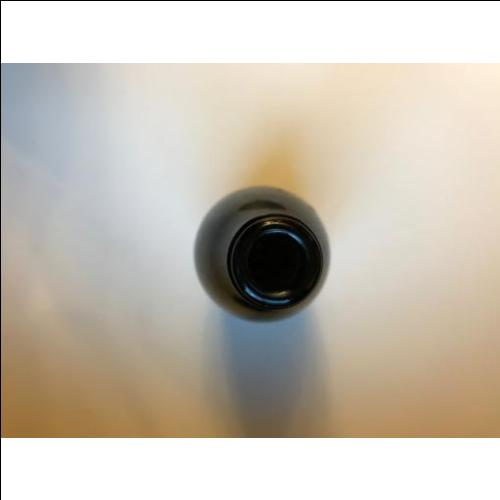glass: (195, 187, 331, 324)
